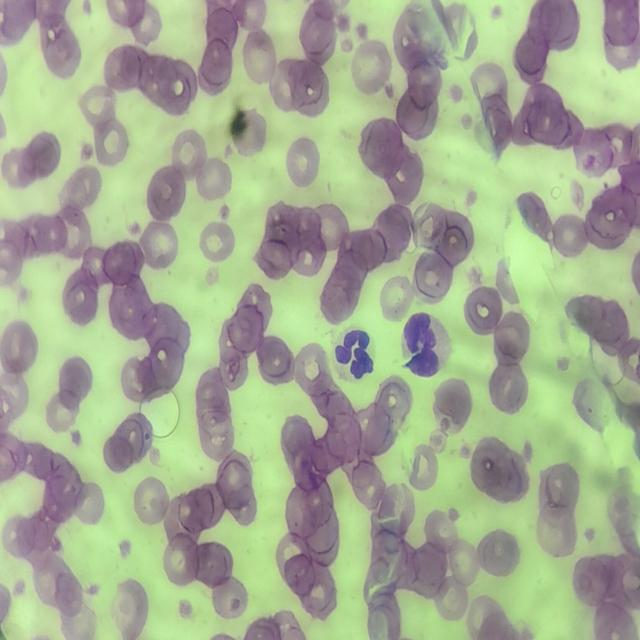Neutrofilo: (397, 313, 453, 374), (330, 327, 377, 384)
